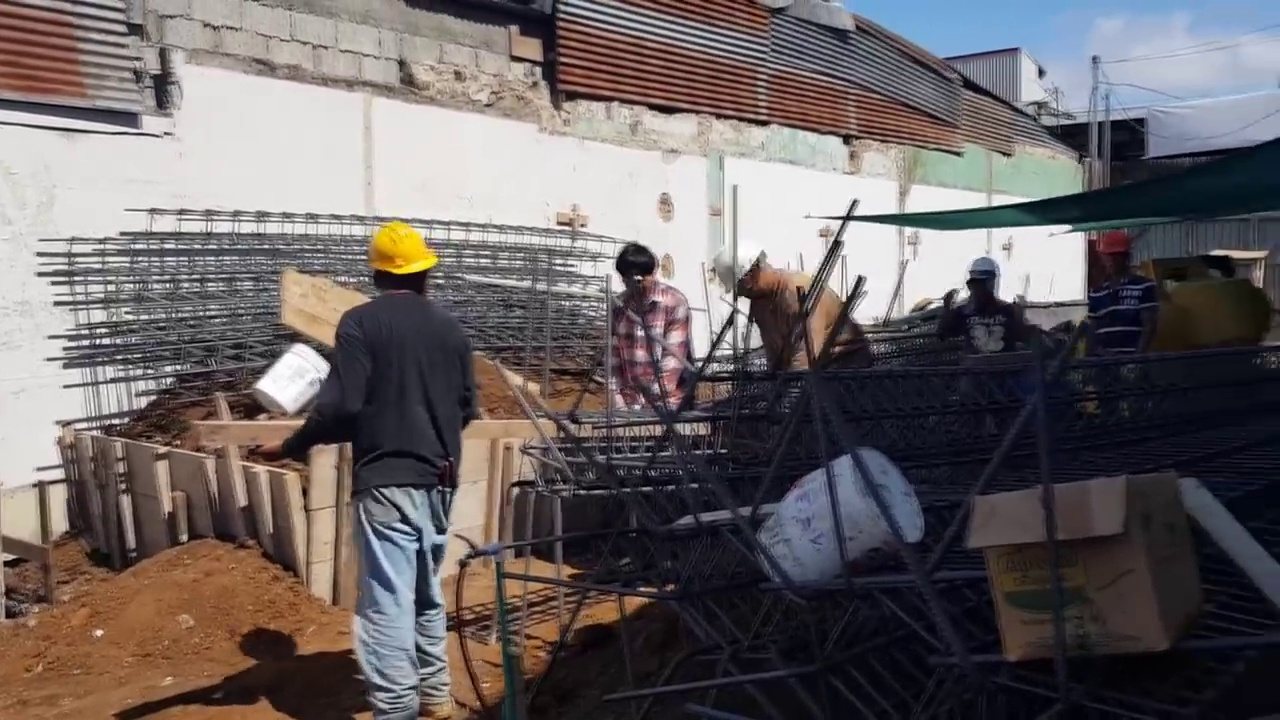helmet: (361, 227, 440, 278), (714, 245, 760, 298), (1095, 231, 1132, 256), (970, 260, 1005, 285)
helmet-off: (610, 246, 657, 305)
helmet-on: (361, 227, 439, 303), (710, 252, 790, 310), (961, 249, 1004, 304), (1095, 230, 1134, 280)
person: (251, 223, 483, 720), (712, 252, 869, 384), (609, 244, 695, 416), (1094, 231, 1160, 356), (950, 258, 1024, 358)
